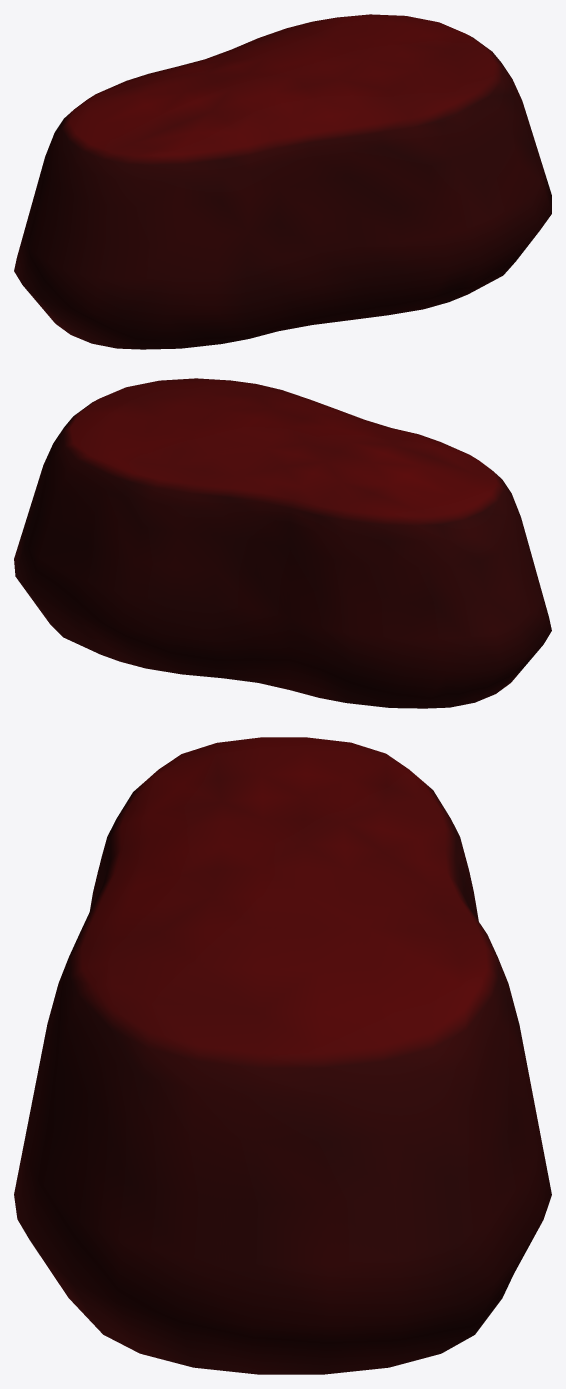
The model's file is geology-landforms-greenhillmedium_v2.fbx.
3 views of the same model, one above another, from view 1: azimuth 30°, elevation 25°; view 2: azimuth 150°, elevation 25°; view 3: azimuth 270°, elevation 25° (orthographic). The views are drawn at different scales.
Parts seen in each view (by area): view 1: GreenHillMedium_v2; view 2: GreenHillMedium_v2; view 3: GreenHillMedium_v2.
Part boxes in pixels (box(x1,y1,x2,y2)): GreenHillMedium_v2: box(14, 14, 551, 349); GreenHillMedium_v2: box(14, 378, 551, 708); GreenHillMedium_v2: box(14, 737, 551, 1374).
Size of the model in its own units: 44.71 by 17.5 by 25.44.
